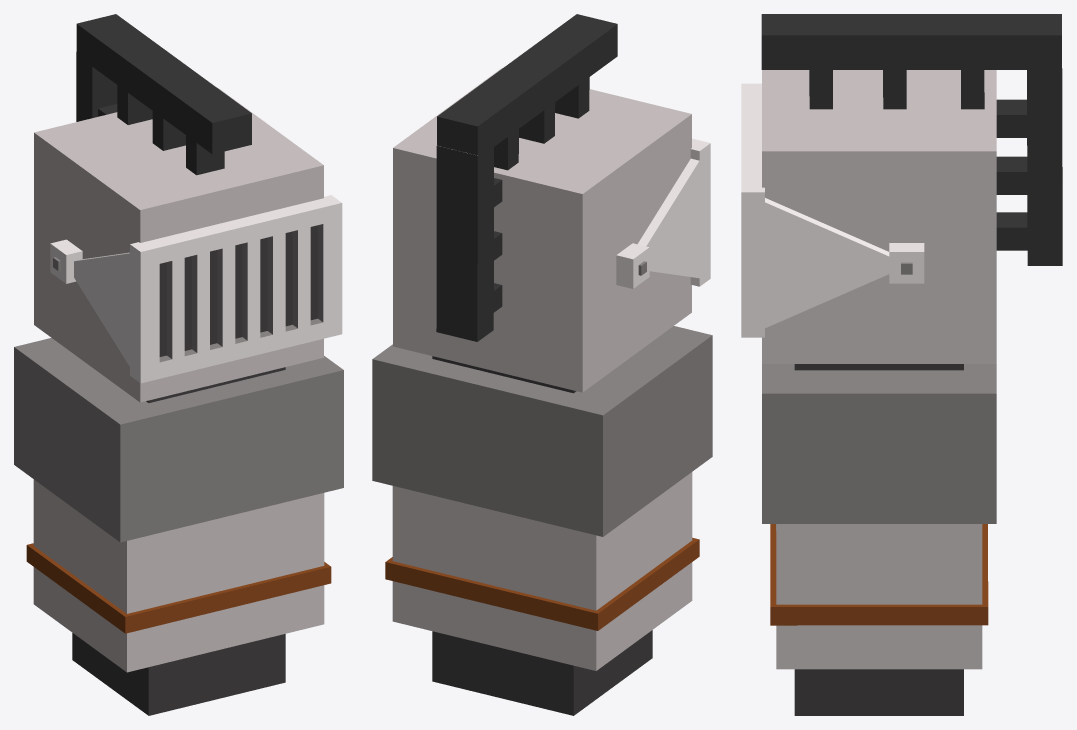
The model's file is hito.obj.
3 views of the same model, side by side, from view 1: azimuth 30°, elevation 25°; view 2: azimuth 150°, elevation 25°; view 3: azimuth 270°, elevation 25° (orthographic). The views are drawn at different scales.
Parts seen in each view (by area): view 1: 立方体.009_立方体.016, 立方体.001, 立方体, 立方体.002_立方体.010, 立方体.008_立方体.009, Cube.001, 立方体.007_立方体.015, 立方体.003_立方体.011, 立方体.005_立方体.013; view 2: 立方体.001, 立方体.009_立方体.016, 立方体, 立方体.008_立方体.009, Cube.001, 立方体.007_立方体.015, 立方体.003_立方体.011, 立方体.002_立方体.010, 立方体.005_立方体.013; view 3: 立方体.001, 立方体.009_立方体.016, 立方体.008_立方体.009, 立方体, 立方体.004_立方体.012, Cube.001, 立方体.007_立方体.015, 立方体.002_立方体.010, 立方体.005_立方体.013.
Part boxes in pixels (x1=…): 立方体.009_立方体.016: x1=14, y1=338, x2=343, y2=542; 立方体.001: x1=34, y1=87, x2=323, y2=402; 立方体: x1=33, y1=479, x2=324, y2=672; 立方体.002_立方体.010: x1=130, y1=195, x2=342, y2=383; 立方体.008_立方体.009: x1=76, y1=14, x2=251, y2=175; Cube.001: x1=72, y1=367, x2=285, y2=715; 立方体.007_立方体.015: x1=26, y1=543, x2=331, y2=633; 立方体.003_立方体.011: x1=74, y1=252, x2=129, y2=366; 立方体.005_立方体.013: x1=50, y1=239, x2=82, y2=283; 立方体.001: x1=393, y1=68, x2=691, y2=392; 立方体.009_立方体.016: x1=372, y1=326, x2=712, y2=536; 立方体: x1=392, y1=472, x2=692, y2=670; 立方体.008_立方体.009: x1=436, y1=14, x2=617, y2=341; Cube.001: x1=432, y1=356, x2=652, y2=715; 立方体.007_立方体.015: x1=385, y1=537, x2=699, y2=630; 立方体.003_立方体.011: x1=638, y1=158, x2=699, y2=278; 立方体.002_立方体.010: x1=690, y1=138, x2=710, y2=286; 立方体.005_立方体.013: x1=616, y1=243, x2=649, y2=288; 立方体.001: x1=762, y1=70, x2=996, y2=363; 立方体.009_立方体.016: x1=762, y1=364, x2=996, y2=523; 立方体.008_立方体.009: x1=761, y1=14, x2=1062, y2=265; 立方体: x1=776, y1=524, x2=982, y2=669; 立方体.004_立方体.012: x1=765, y1=198, x2=889, y2=328; Cube.001: x1=794, y1=364, x2=963, y2=715; 立方体.007_立方体.015: x1=770, y1=524, x2=988, y2=625; 立方体.002_立方体.010: x1=741, y1=83, x2=764, y2=337; 立方体.005_立方体.013: x1=889, y1=243, x2=924, y2=283.
Size of the model in its own units: 2.43 by 6.15 by 2.74.
